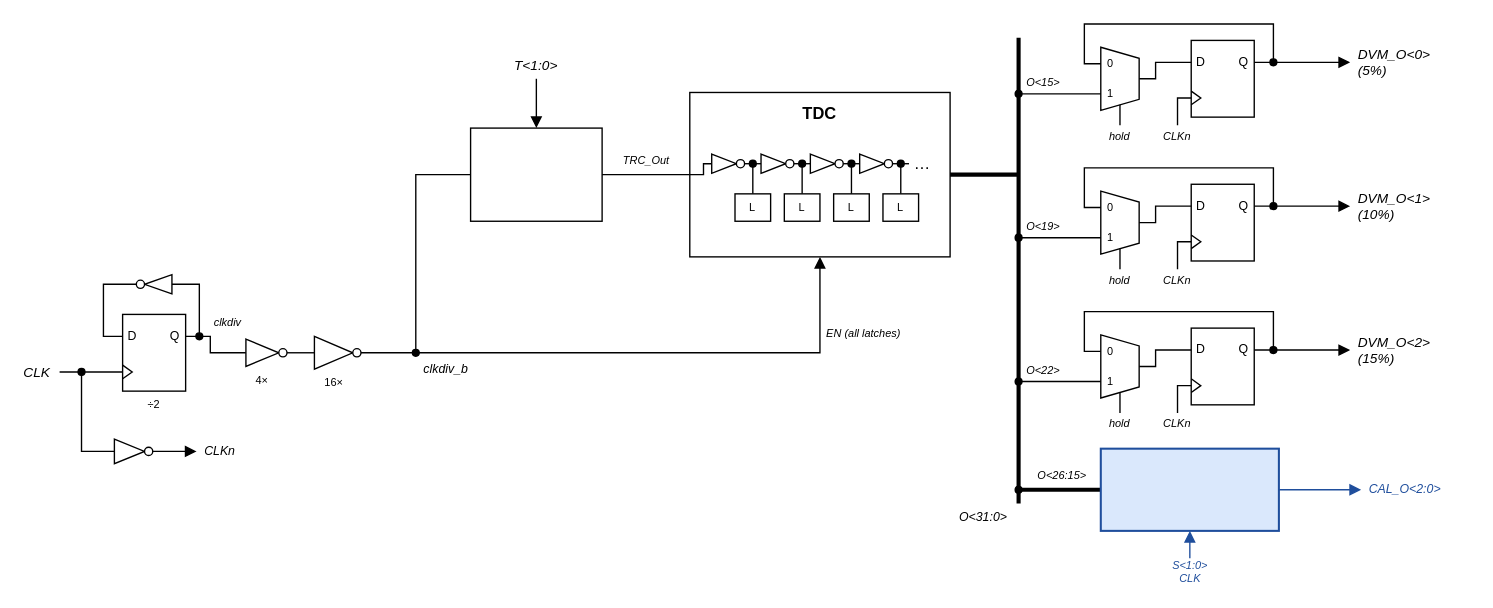
Some shapes in this 1493 by 608 pixel diagram are drawn without their labels. The centre of each missing label's shape, as x and y in pixels:
"TAP_CAL (this work)" belongs at point (1189, 489).
"TRC" belongs at point (535, 174).
